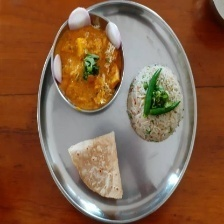sabzi: (54, 14, 125, 112)
